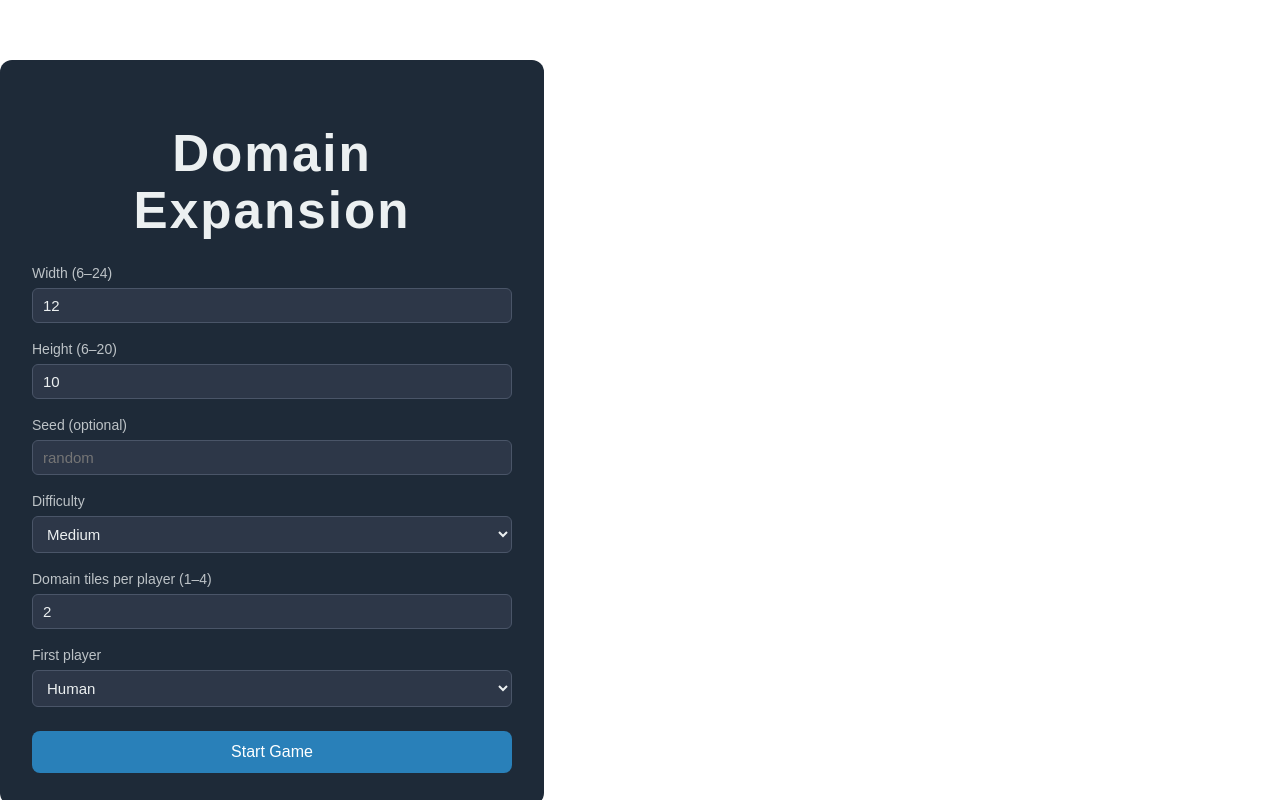
Test: Plains: two-step selection UI › shows "Select your first bonus tile" when phase is plains_first_pick
Click the button with test id "btn-start": point(272, 752) [32, 731, 512, 773]
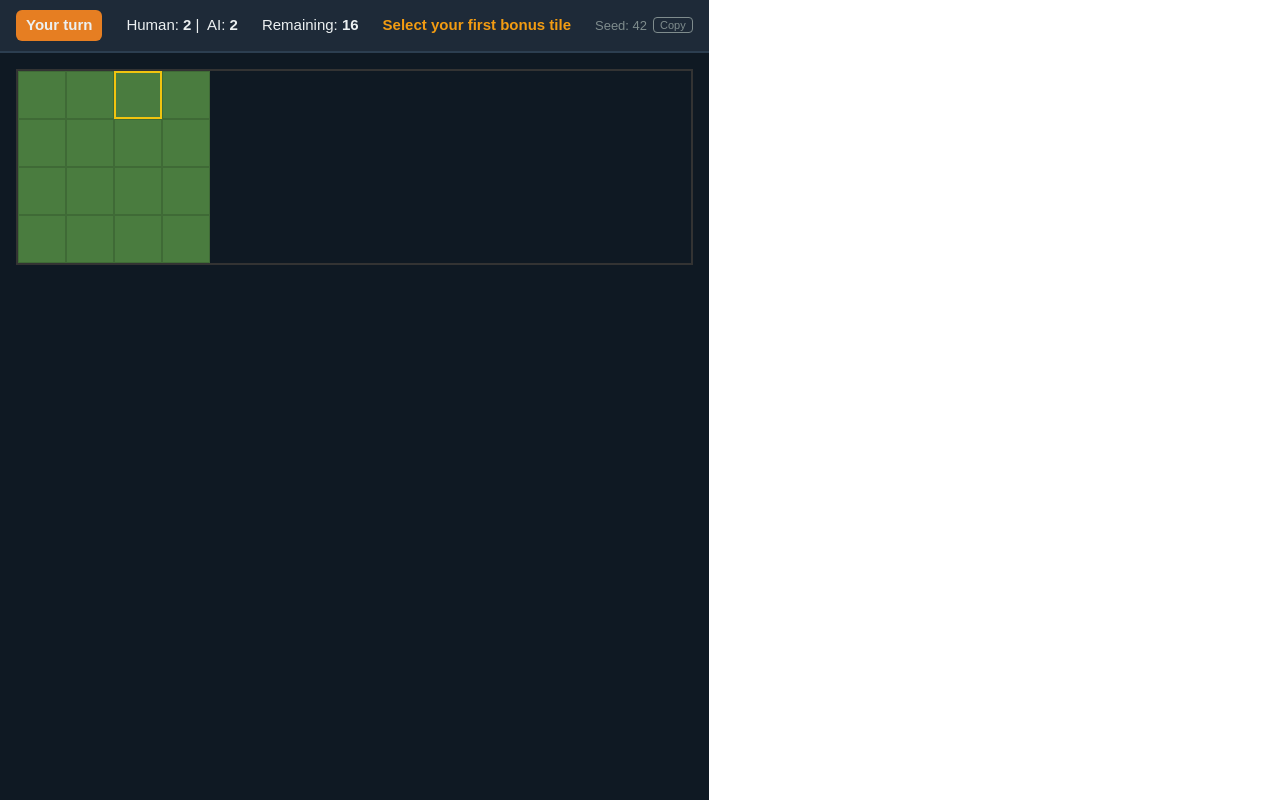
Expected: the element with test id "board" is shown, [16, 68, 693, 264]
Expected: the text with test id "phase-prompt" reads "Select your first bonus tile", [383, 16, 571, 33]
